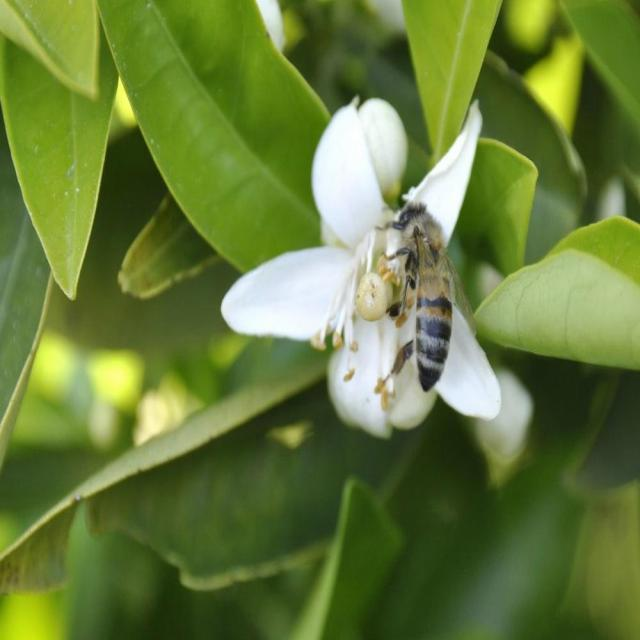Bunga: (222, 96, 505, 438), (357, 98, 408, 196)
